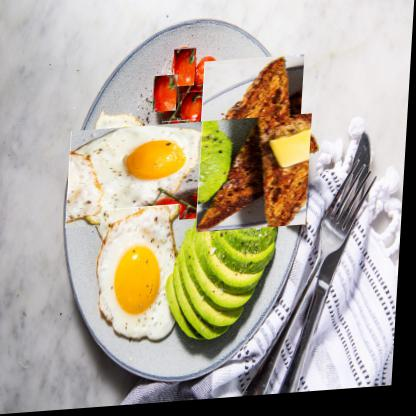bread: (190, 68, 316, 195), (198, 119, 315, 237)
egg: (77, 117, 198, 239), (97, 207, 184, 348)
tomato: (162, 122, 192, 159), (173, 50, 199, 91), (153, 77, 180, 116), (182, 93, 208, 129), (195, 59, 220, 96)
